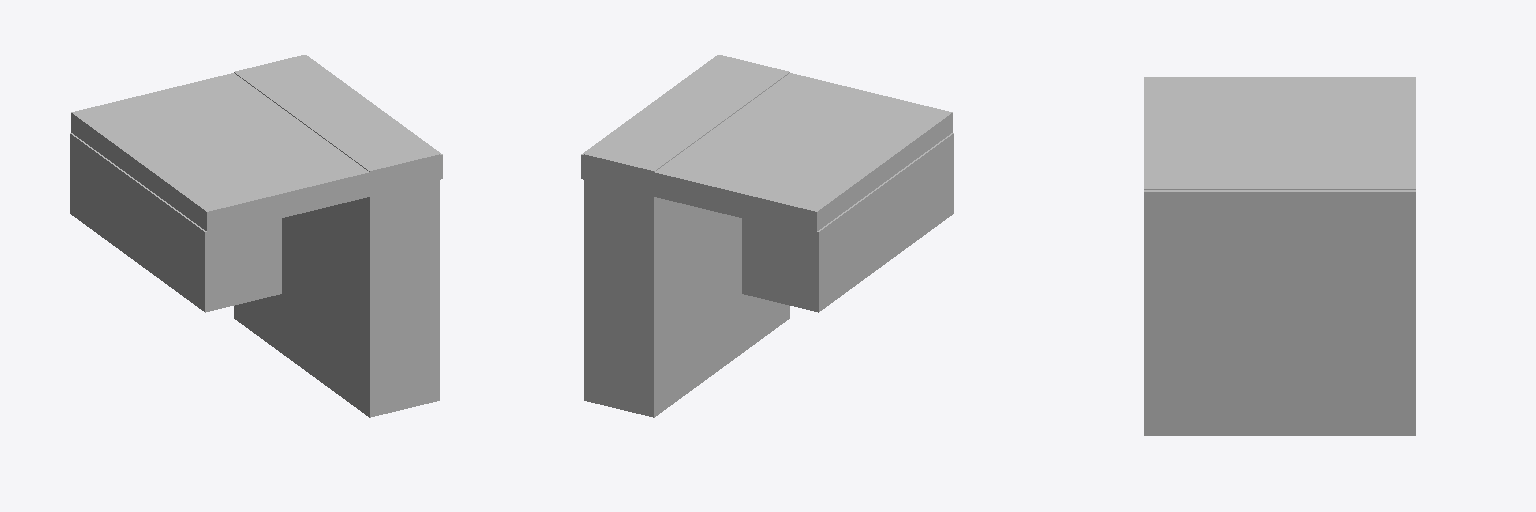
File: hitBoxsucreOrge.obj
3 renders of one model, left to right at view 1: azimuth 30°, elevation 25°; view 2: azimuth 150°, elevation 25°; view 3: azimuth 270°, elevation 25°, orthographic.
Parts seen in each view (by area): view 1: Cube.002_Cube.003; view 2: Cube.002_Cube.003; view 3: Cube.002_Cube.003.
Boxes of the visible parts, box(x1,y1,x2,y2) form: Cube.002_Cube.003: box(70, 55, 442, 417); Cube.002_Cube.003: box(581, 55, 953, 417); Cube.002_Cube.003: box(1144, 77, 1415, 435).
Size of the model in its own units: 0.9911 by 0.9838 by 0.9838.